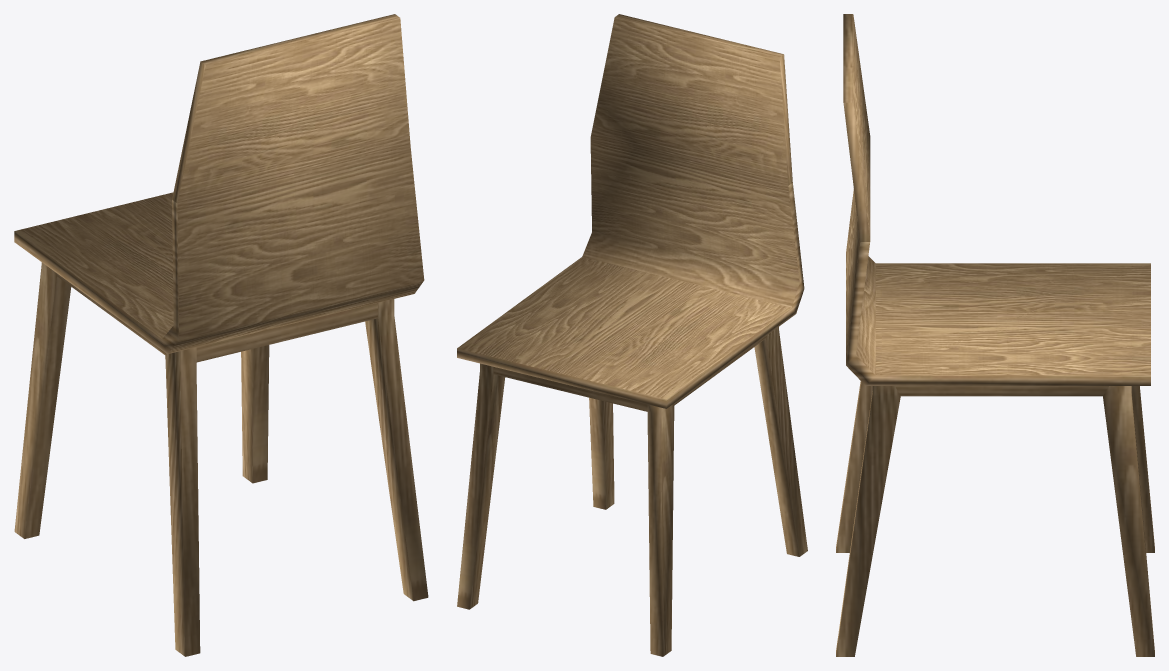
The model's file is Chair_03.glb.
3 views of the same model, side by side, from view 1: azimuth 30°, elevation 25°; view 2: azimuth 150°, elevation 25°; view 3: azimuth 270°, elevation 25° (orthographic). The views are drawn at different scales.
Visible parts, largest first — view 1: Chair_03; view 2: Chair_03; view 3: Chair_03.
Part boxes in pixels (x1,y1,x2,y2): Chair_03: (14,14,428,656); Chair_03: (457,14,807,656); Chair_03: (836,14,1154,656).
Bounding box in the file's own units: 0.4862 × 1.1 × 0.5824.
1 material, 1 textured.
